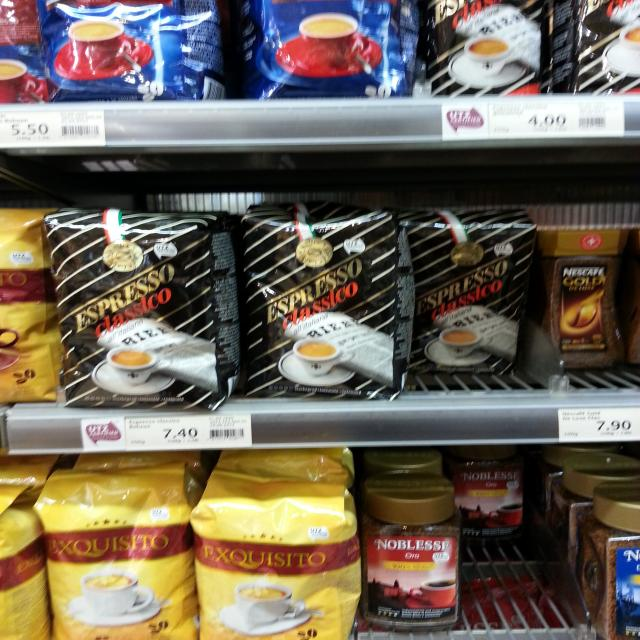Coffee: (217, 207, 429, 416), (37, 208, 235, 409), (189, 473, 364, 640), (30, 472, 201, 640), (395, 211, 533, 379), (0, 0, 225, 95), (357, 467, 467, 640), (242, 0, 422, 96), (519, 220, 629, 370), (428, 0, 558, 91), (572, 488, 640, 640), (444, 440, 536, 535), (566, 0, 640, 92)
